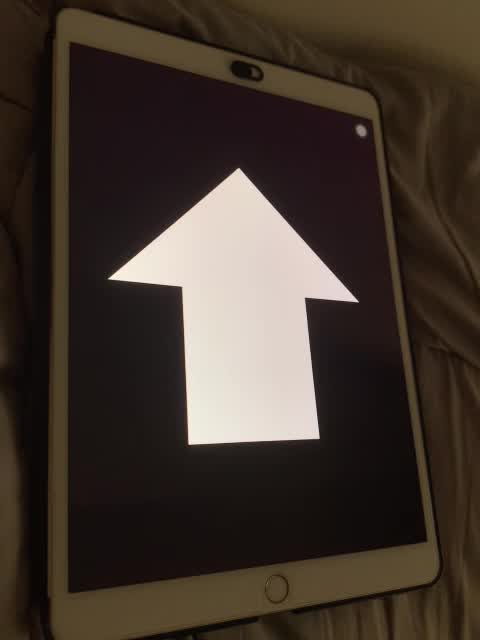up: (103, 164, 365, 450)
